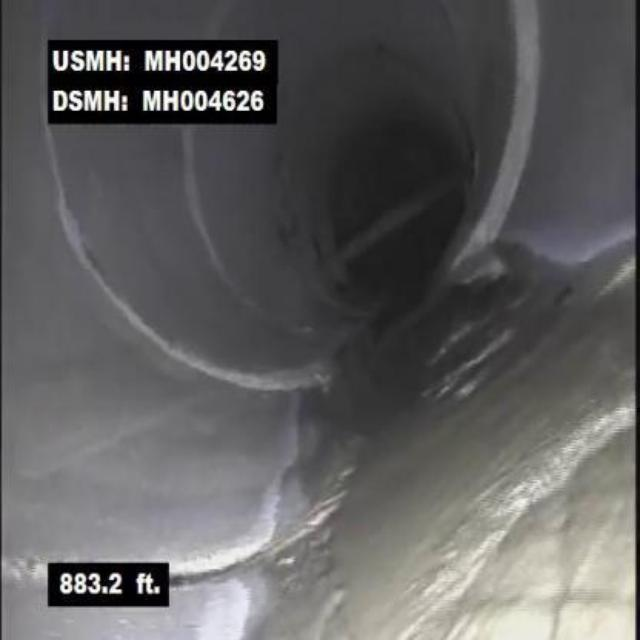Joint offset: (437, 8, 558, 288)
